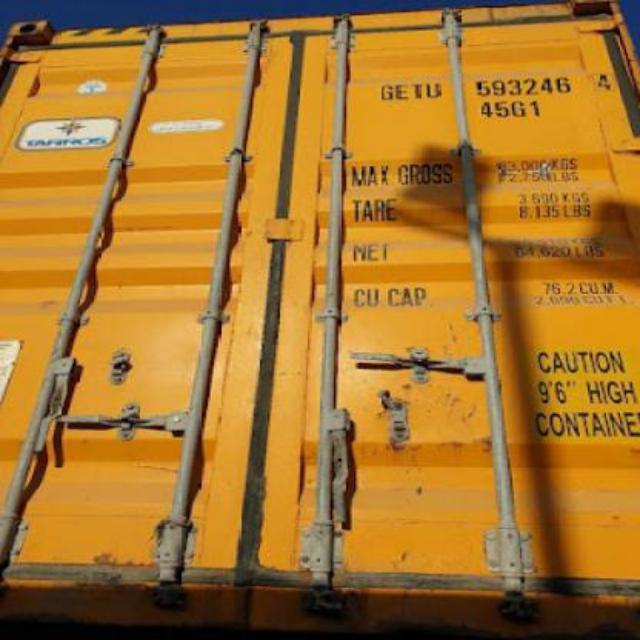2: (524, 78, 540, 98)
3: (508, 79, 524, 97)
4: (596, 73, 612, 91), (540, 78, 556, 94)
5: (474, 78, 492, 98)
6: (558, 78, 572, 94)
9: (490, 79, 508, 97)
E: (396, 84, 409, 100)
G: (376, 83, 394, 103)
T: (412, 83, 424, 101)
U: (424, 83, 440, 99)
